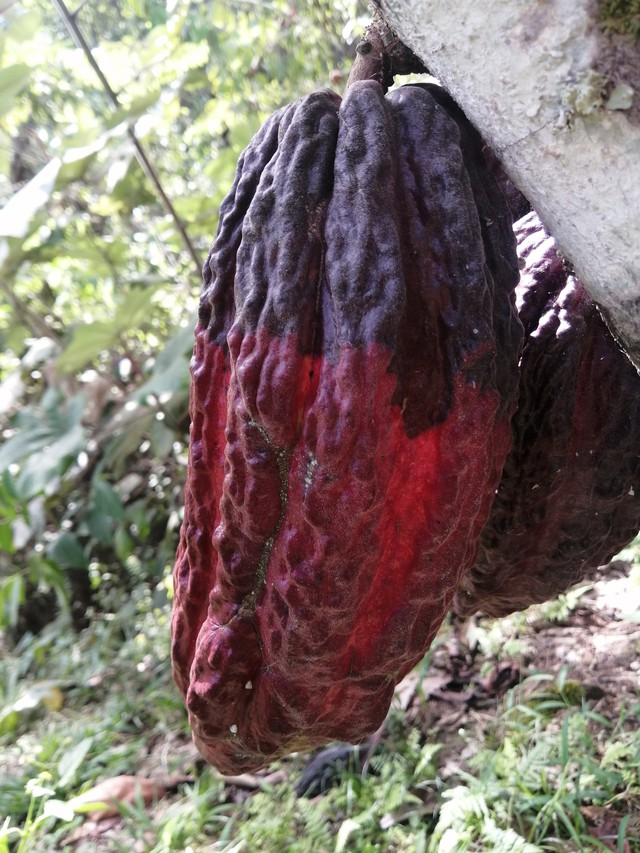phytophthora palmivora: (150, 57, 536, 796)
